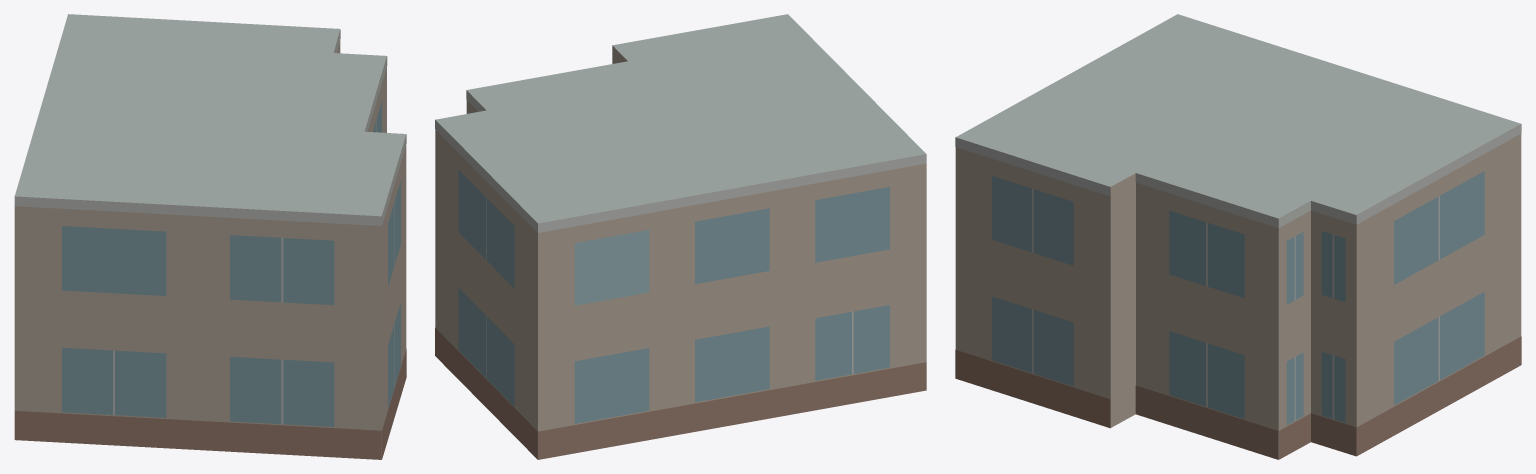
File: survey-upis-32820979.glb
3 renders of one model, left to right at view 1: azimuth 30°, elevation 25°; view 2: azimuth 150°, elevation 25°; view 3: azimuth 270°, elevation 25°, orthographic. The views are drawn at different scales.
Parts seen in each view (by area): view 1: survey-upis-32820979.tmp; view 2: survey-upis-32820979.tmp; view 3: survey-upis-32820979.tmp.
Boxes of the visible parts, x1,y1,x2,y2 form: survey-upis-32820979.tmp: [14, 14, 406, 459]; survey-upis-32820979.tmp: [435, 14, 926, 459]; survey-upis-32820979.tmp: [955, 14, 1521, 459].
Size of the model in its own units: 11.1 by 6.1 by 12.98.
